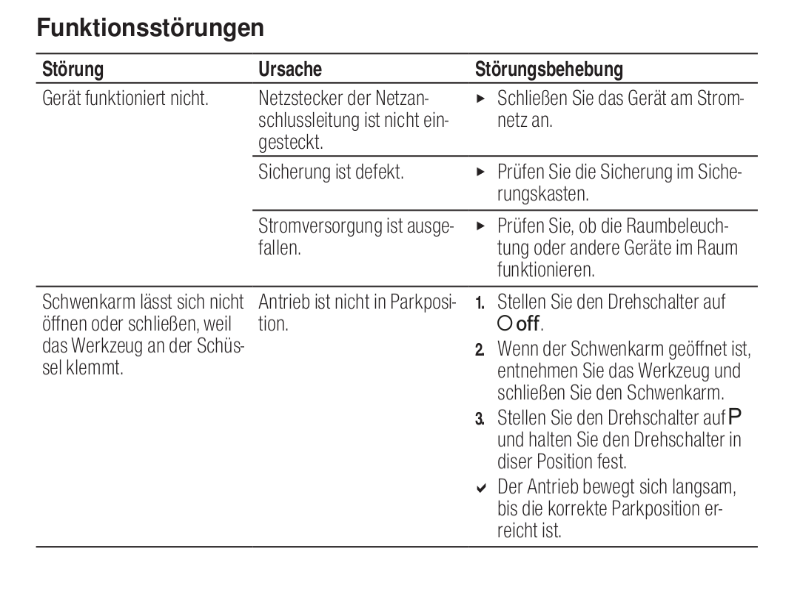borderless: (28, 46, 772, 563)
cell: (472, 291, 767, 541), (37, 291, 252, 380), (473, 215, 759, 279), (254, 86, 459, 153), (474, 159, 756, 204), (474, 88, 752, 133), (254, 214, 459, 259), (255, 291, 461, 332), (38, 86, 212, 113), (472, 57, 631, 80), (253, 161, 407, 183), (39, 58, 108, 80), (256, 56, 325, 78)
